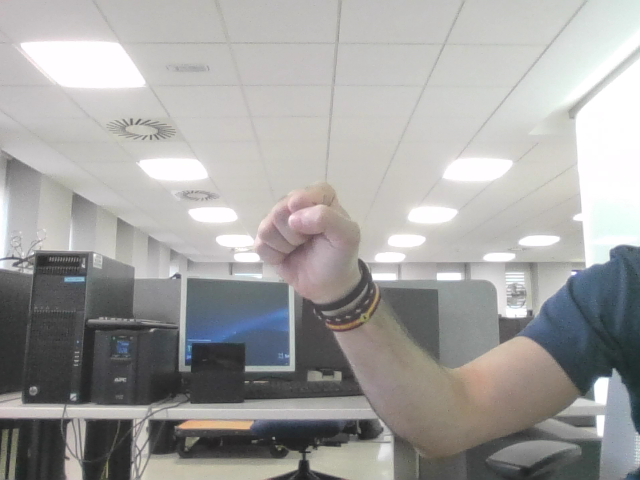Puño: (262, 201, 343, 262)
